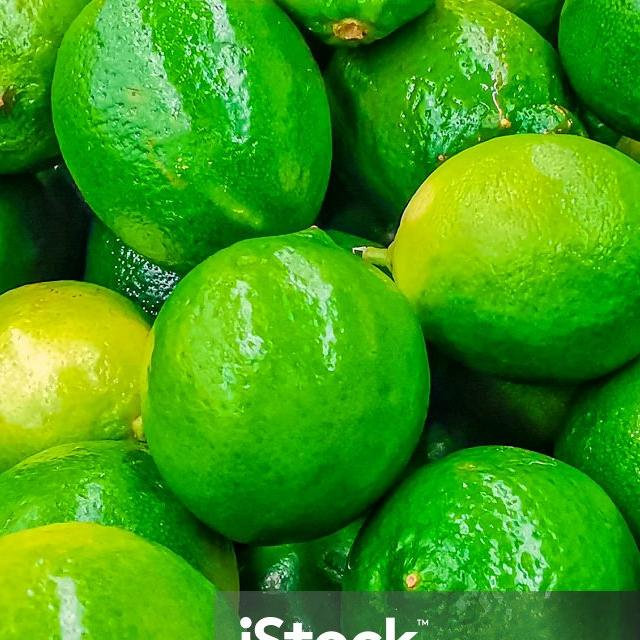lime: (138, 232, 436, 555)
